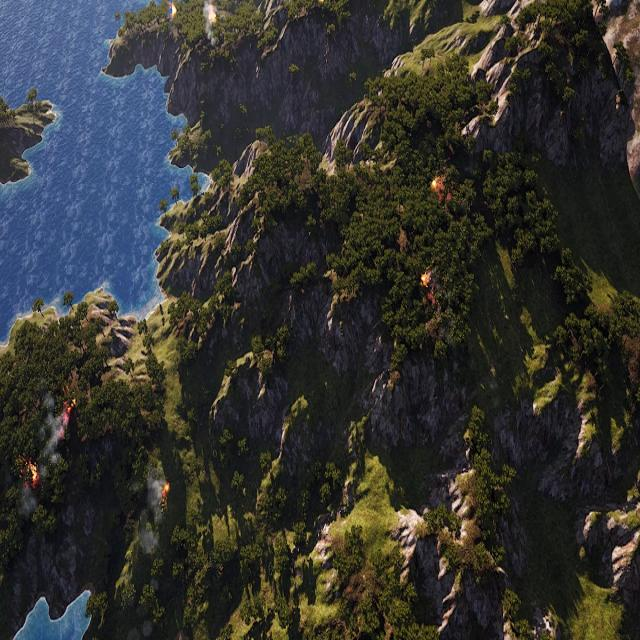fire: (430, 174, 450, 201), (27, 461, 39, 485), (64, 396, 77, 417), (421, 270, 431, 287), (163, 482, 172, 499), (170, 3, 177, 18)
smoke: (138, 471, 171, 555), (35, 392, 67, 466), (18, 486, 38, 523), (202, 0, 217, 45)
